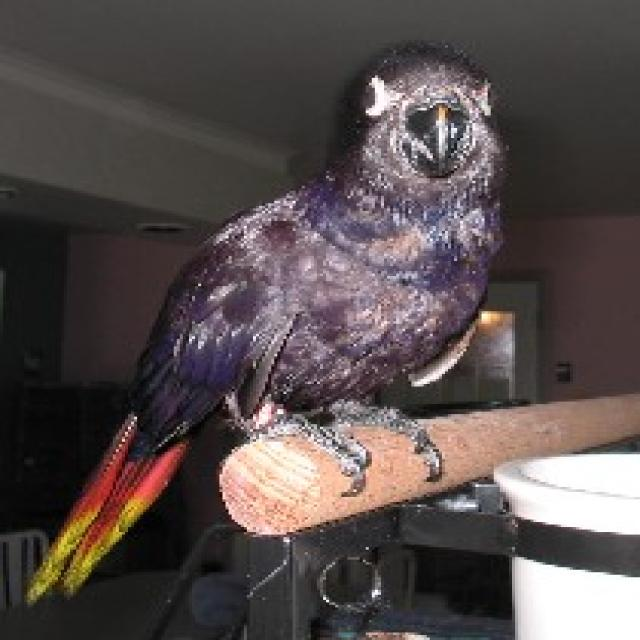Nuri Hitam: (9, 43, 521, 613)
